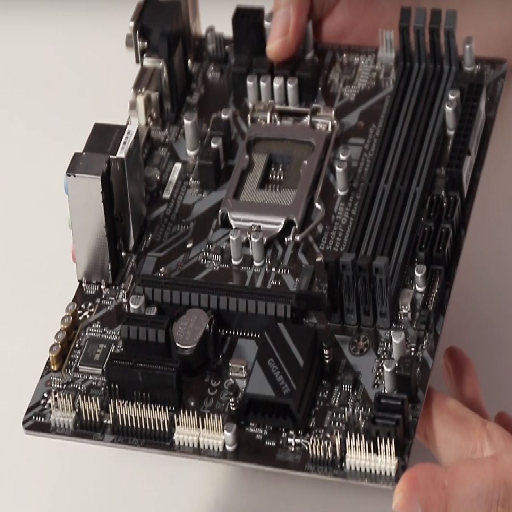CPU: (217, 117, 331, 247)
GPU: (129, 271, 322, 326)
MOTHERBOARD: (34, 12, 502, 478)
RAM: (325, 14, 460, 316)
SSD: (292, 262, 318, 298)
